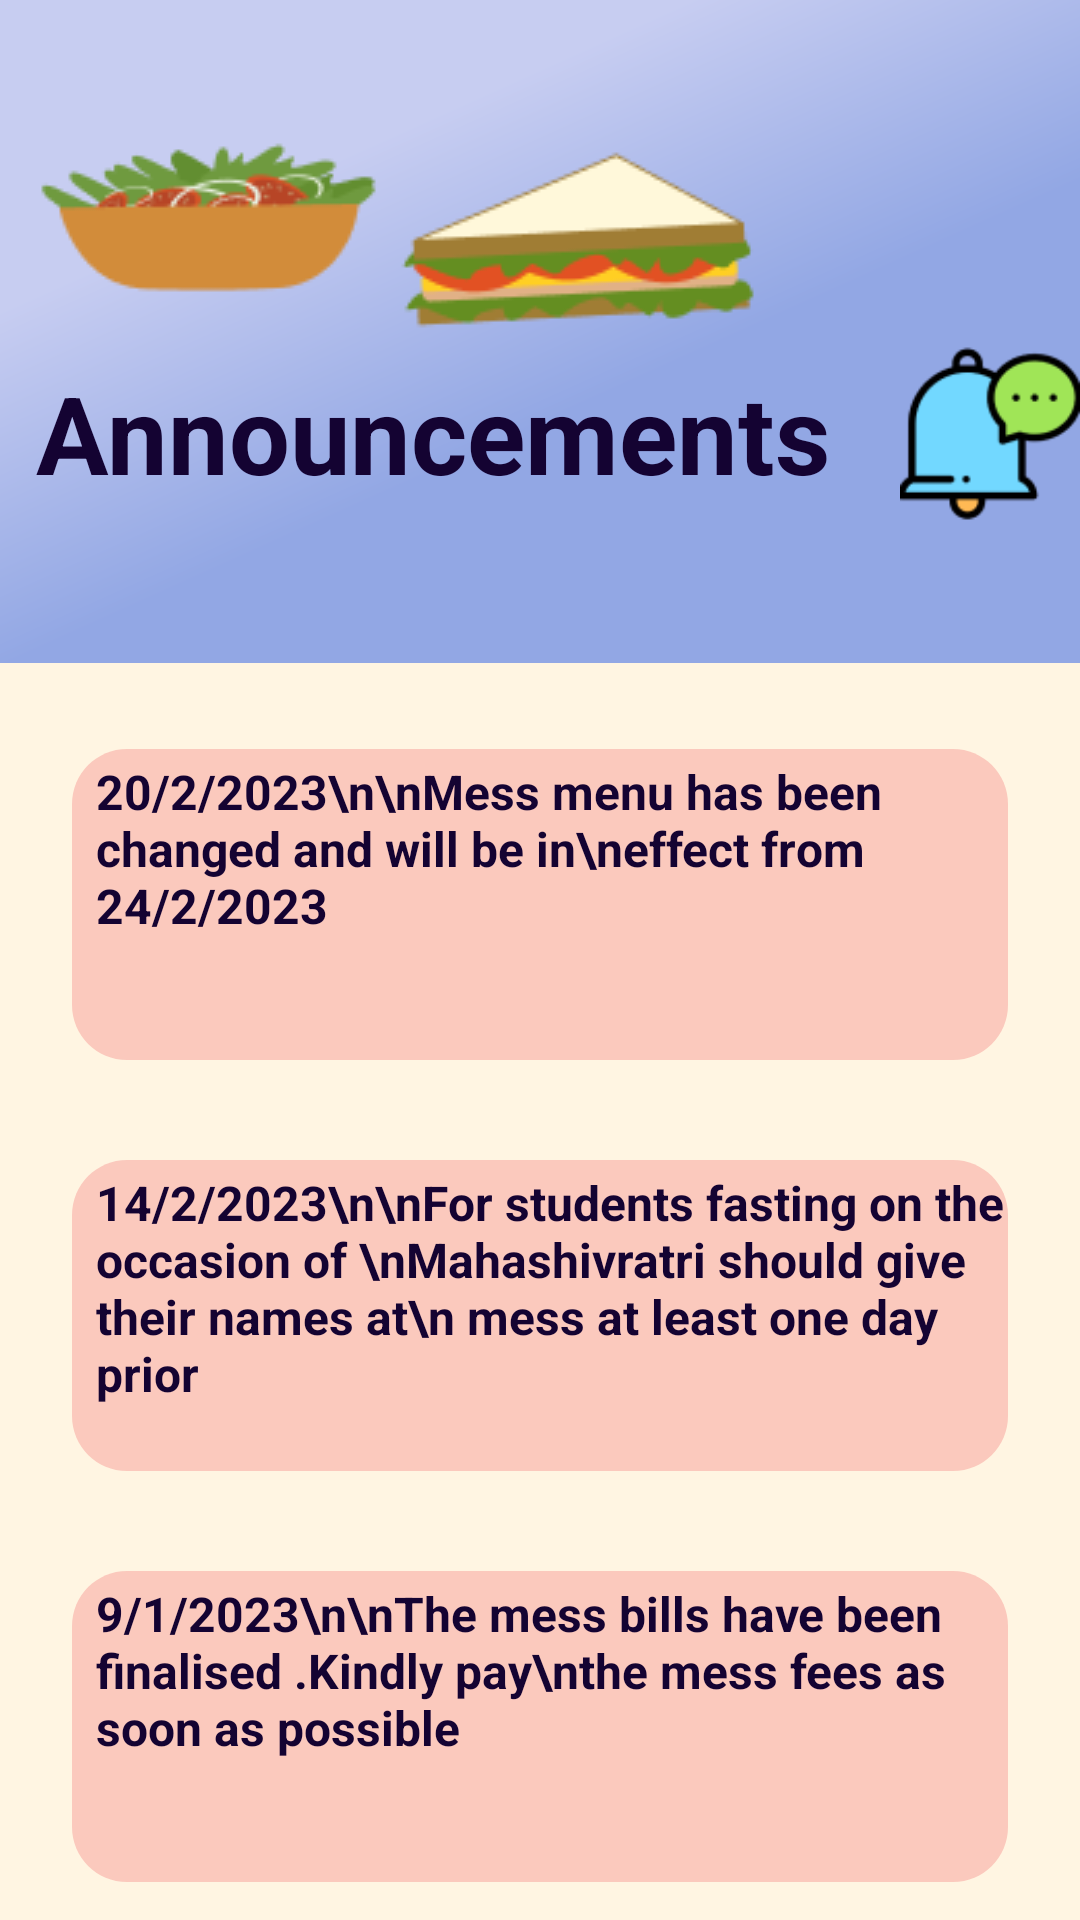

Locate icon controls on the screen. Image size 1080 x 1920, boxes as bbox=(x1, y1, x2, y2).
bell: bbox=(900, 347, 1080, 520)
salad: bbox=(41, 144, 376, 292)
